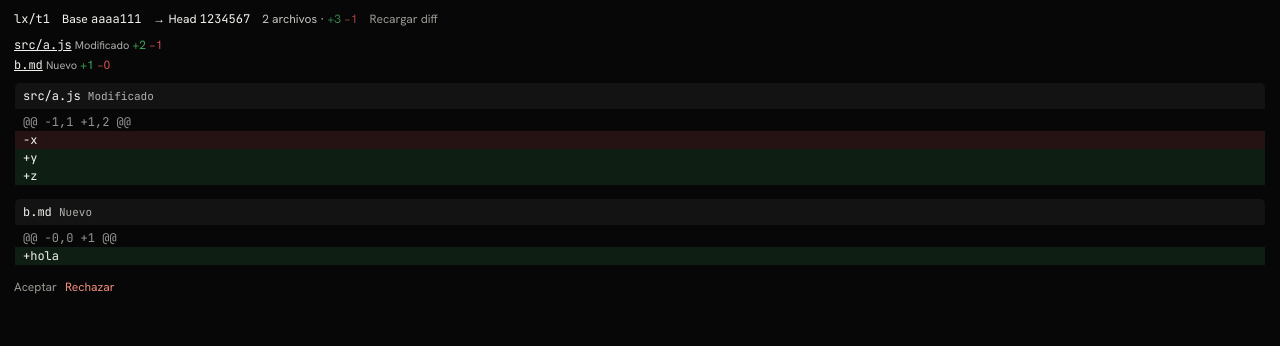
Test: TaskDiffView › head_moved con found_commit null: la rama ya no existe
This screenshot has width=1280, height=346.
What coordinates should you click on to do the following:
click the button "Aceptar"
I would click on:
 (35, 287)
Its box is [14,278,57,296].
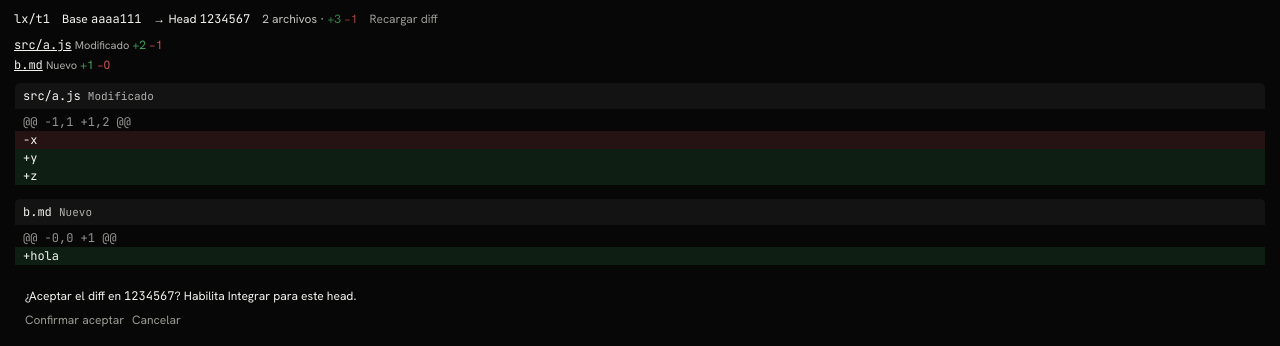
What coordinates should you click on to do the following:
click the button "Confirmar aceptar"
I would click on:
 (75, 320)
Its box is [25,311,124,329].
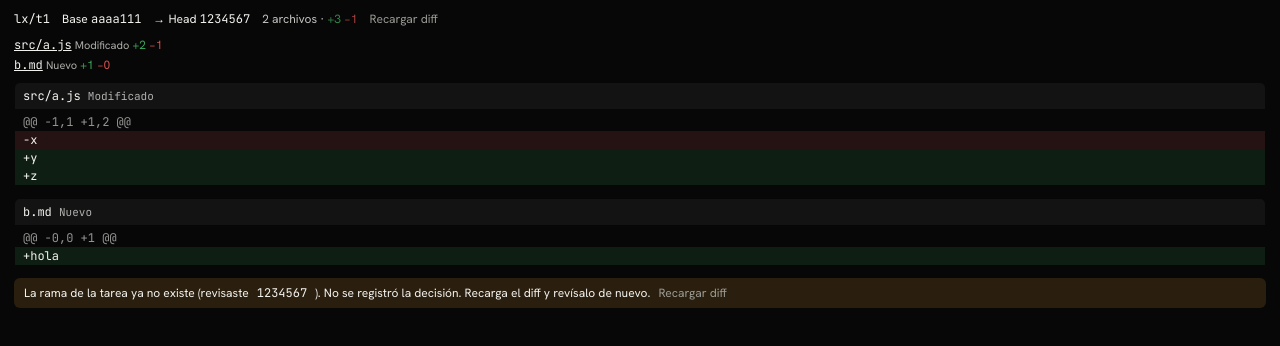
Expected: the message with test id "tdv-head-moved" shows "ya no existe", [24,285,249,301]
